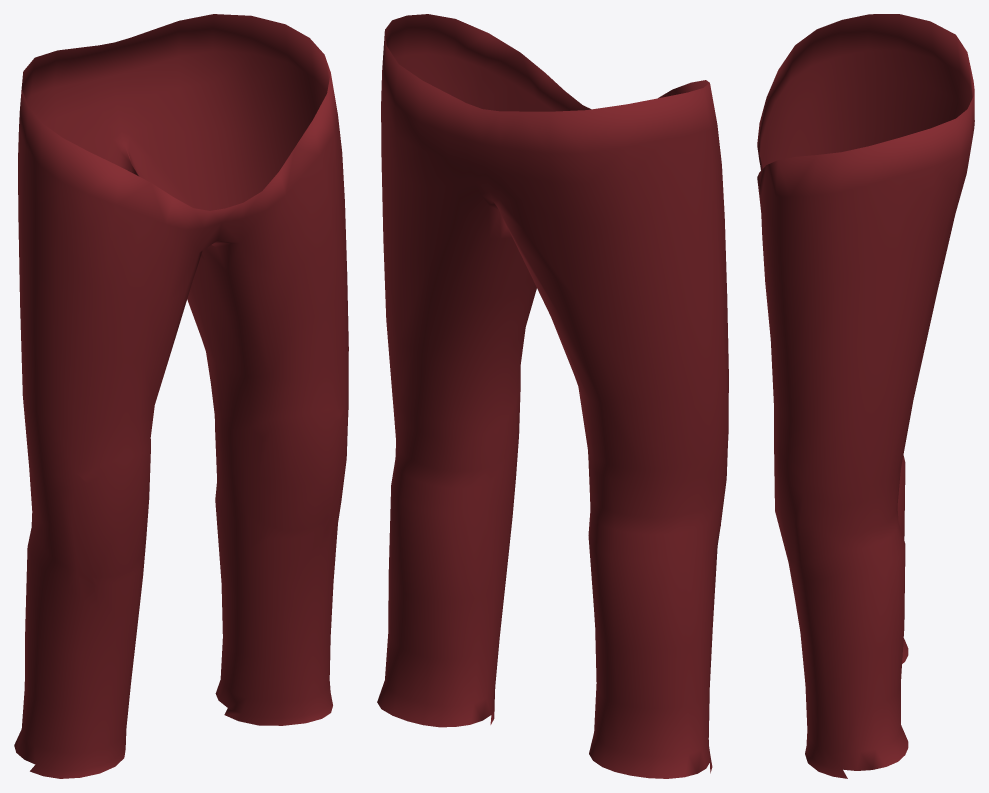
The model's file is PantsTheodore.fbx.
The picture shows the model from 3 angles, left to right: view 1: azimuth 30°, elevation 25°; view 2: azimuth 150°, elevation 25°; view 3: azimuth 270°, elevation 25°; orthographic projection. The views are drawn at different scales.
Parts seen in each view (by area): view 1: Jane_Body.001; view 2: Jane_Body.001; view 3: Jane_Body.001.
Part boxes in pixels (box(x1,y1,x2,y2)): Jane_Body.001: box(14, 14, 348, 778); Jane_Body.001: box(377, 14, 728, 778); Jane_Body.001: box(757, 14, 974, 778).
Bounding box in the file's own units: 637 × 1303 × 406.
